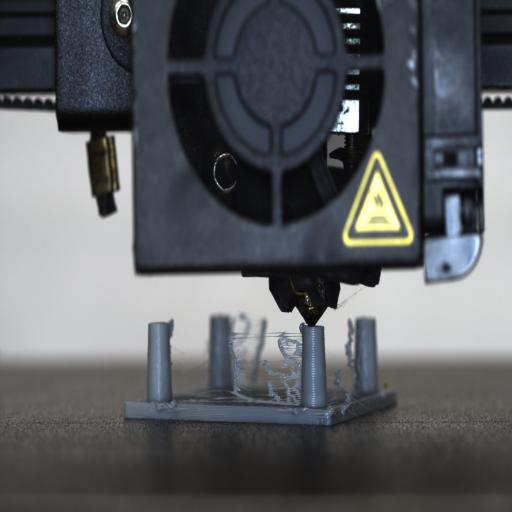stringing: (229, 331, 301, 403)
